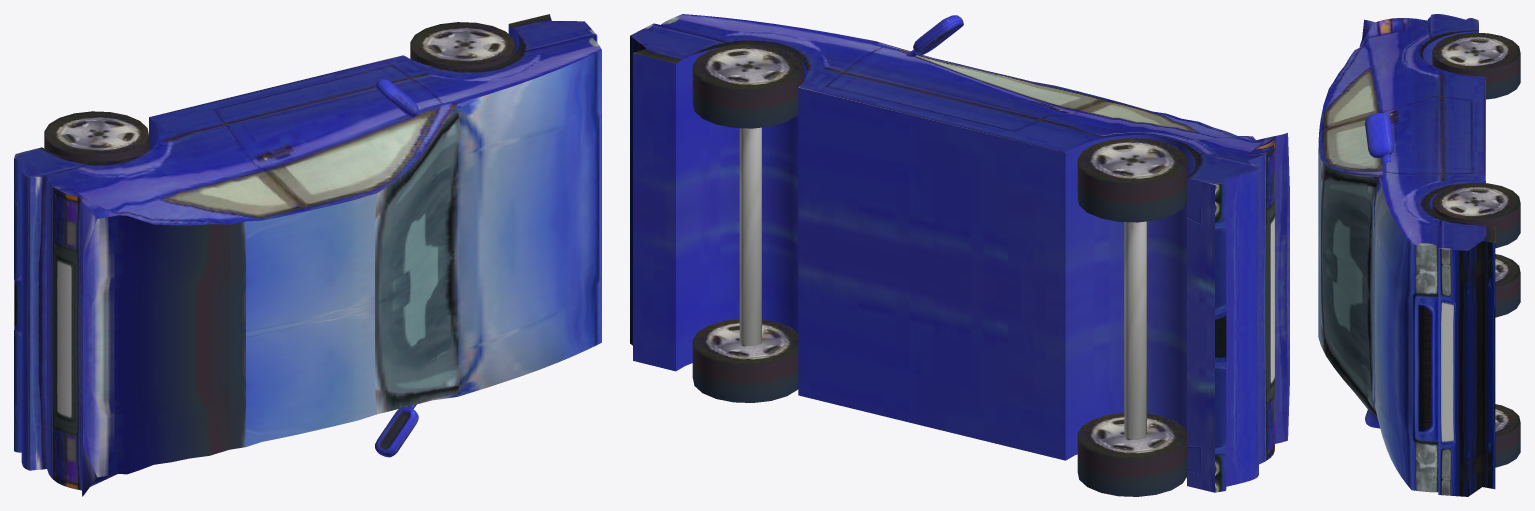
The model's file is CarModel.dae.
The picture shows the model from 3 angles, left to right: view 1: azimuth 30°, elevation 25°; view 2: azimuth 150°, elevation 25°; view 3: azimuth 270°, elevation 25°; orthographic projection. The views are drawn at different scales.
Visible parts, largest first — view 1: Line02, Cylinder04, Cylinder03, ChamferBox02, ChamferBox01; view 2: Line02, Cylinder04, Cylinder03, Cylinder06, Cylinder01, Cylinder02, Cylinder05, ChamferBox01; view 3: Line02, Cylinder04, Cylinder03, Cylinder01, Cylinder06, ChamferBox01.
Boxes of the visible parts, x1=… form: Line02: x1=14, y1=14, x2=601, y2=496; Cylinder04: x1=44, y1=111, x2=148, y2=161; Cylinder03: x1=410, y1=22, x2=514, y2=69; ChamferBox02: x1=375, y1=407, x2=418, y2=457; ChamferBox01: x1=375, y1=79, x2=418, y2=118; Line02: x1=630, y1=14, x2=1289, y2=492; Cylinder04: x1=1077, y1=138, x2=1187, y2=222; Cylinder03: x1=692, y1=44, x2=802, y2=128; Cylinder06: x1=1077, y1=413, x2=1186, y2=496; Cylinder01: x1=692, y1=319, x2=798, y2=402; Cylinder02: x1=739, y1=127, x2=761, y2=345; Cylinder05: x1=1124, y1=221, x2=1146, y2=439; ChamferBox01: x1=913, y1=15, x2=963, y2=55; Line02: x1=1318, y1=14, x2=1495, y2=496; Cylinder04: x1=1432, y1=32, x2=1520, y2=99; Cylinder03: x1=1432, y1=182, x2=1520, y2=248; Cylinder01: x1=1495, y1=404, x2=1520, y2=467; Cylinder06: x1=1495, y1=254, x2=1520, y2=317; ChamferBox01: x1=1365, y1=113, x2=1393, y2=158.
Size of the model in its own units: 361 by 224 by 130.
1 material, 1 textured.
